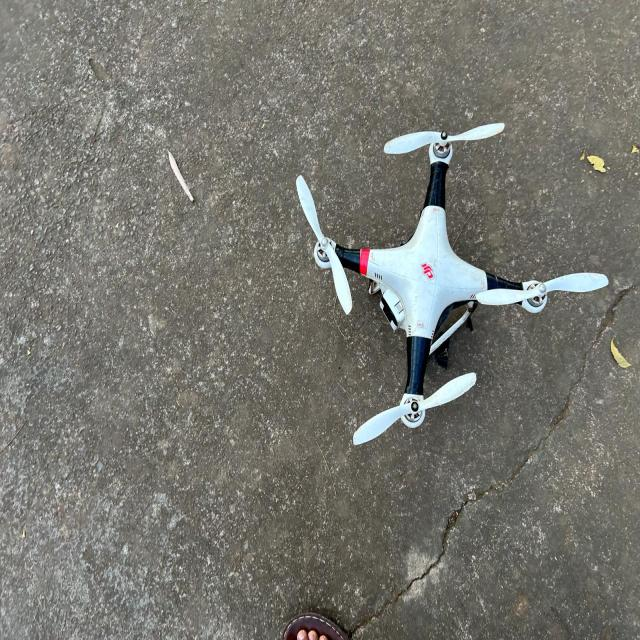drone: (284, 121, 613, 449)
